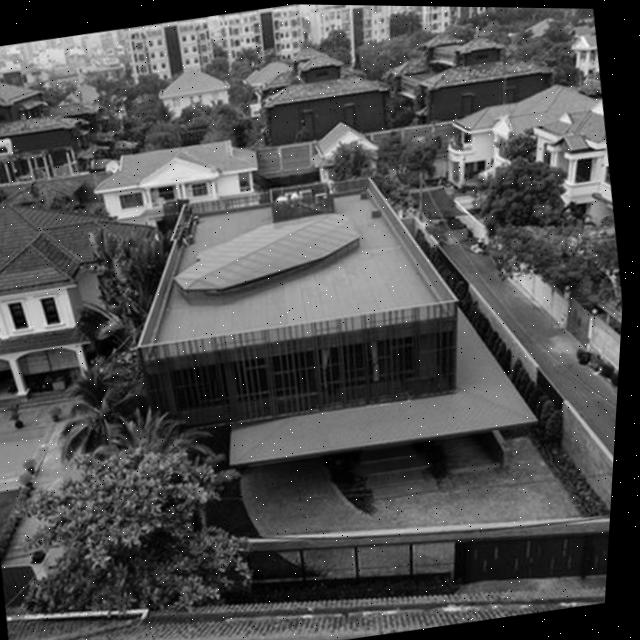building: (110, 151, 560, 524), (385, 16, 629, 269), (0, 175, 180, 407), (238, 29, 395, 151), (92, 126, 272, 227), (0, 64, 99, 197), (298, 107, 386, 188), (145, 54, 238, 125)
